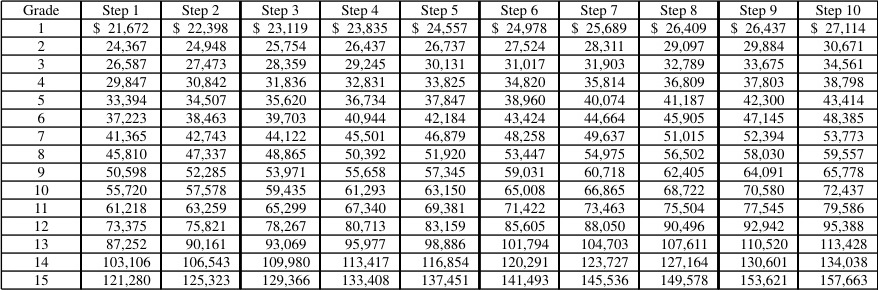column: (648, 1, 710, 290), (250, 1, 311, 290), (92, 1, 152, 290), (490, 1, 550, 290), (570, 1, 630, 290), (729, 1, 789, 290), (330, 1, 389, 290), (411, 1, 470, 290), (810, 1, 868, 290), (173, 1, 230, 290), (22, 1, 61, 290)
row: (1, 4, 878, 18), (1, 237, 877, 251), (1, 22, 878, 35), (1, 40, 878, 53), (1, 111, 878, 124), (1, 220, 877, 233), (1, 76, 878, 88), (1, 94, 878, 106), (1, 148, 878, 160), (1, 256, 878, 268), (1, 274, 878, 286), (1, 58, 877, 70), (1, 130, 877, 142), (1, 166, 877, 178), (1, 184, 877, 196), (1, 202, 877, 214)
